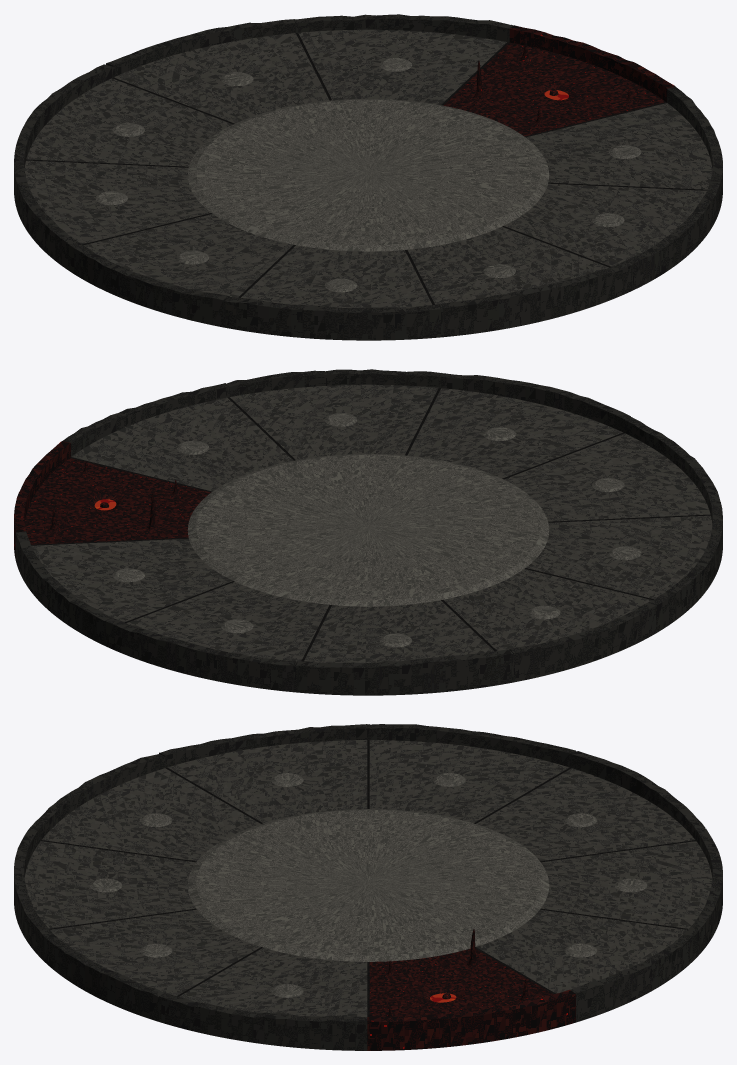
Rendered from hub_base.glb.
The picture shows the model from 3 angles, top to bottom: view 1: azimuth 30°, elevation 25°; view 2: azimuth 150°, elevation 25°; view 3: azimuth 270°, elevation 25°; orthographic projection.
Parts seen in each view (by area): view 1: HubBaseRock; view 2: HubBaseRock; view 3: HubBaseRock.
Boxes of the visible parts, x1,y1,x2,y2 form: HubBaseRock: (14,14,722,340); HubBaseRock: (14,369,722,695); HubBaseRock: (14,724,722,1050).
Size of what is drawn, in the model's own units: 82.4 by 6.6 by 82.39.
3 materials, 3 textured.
